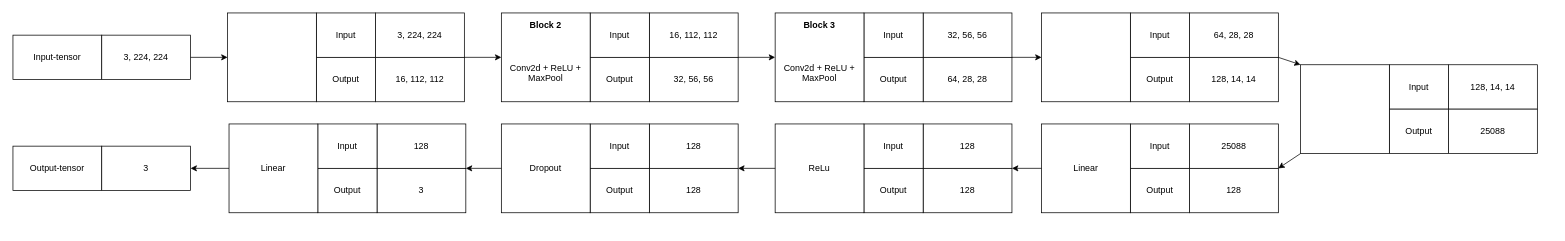
Some shapes in this 1565 by 241 pixel diagram are drawn without their labels. Here are the shapes that lost their labels. From the top down, the centre of each, then its label:
the point at 271,57: Block 1 Conv2d + ReLU + MaxPool
the point at 1085,57: Block 4 Conv2d + ReLU + MaxPool
the point at 1344,109: Flatten
